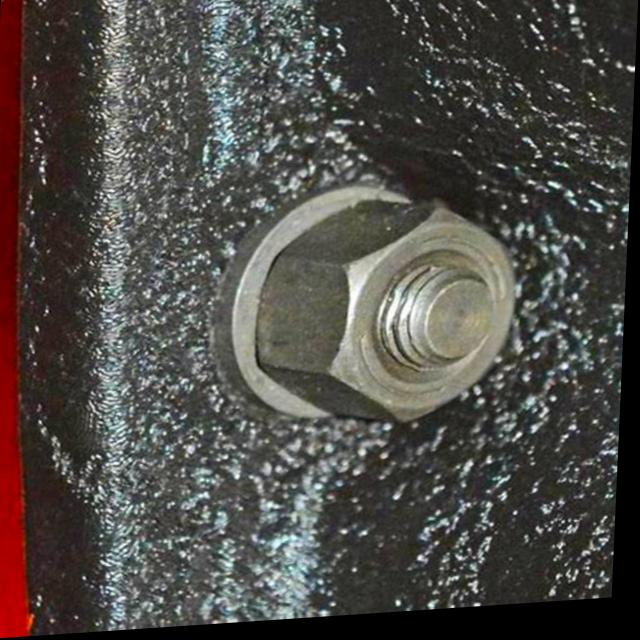Regular bolt: (257, 196, 525, 440)
